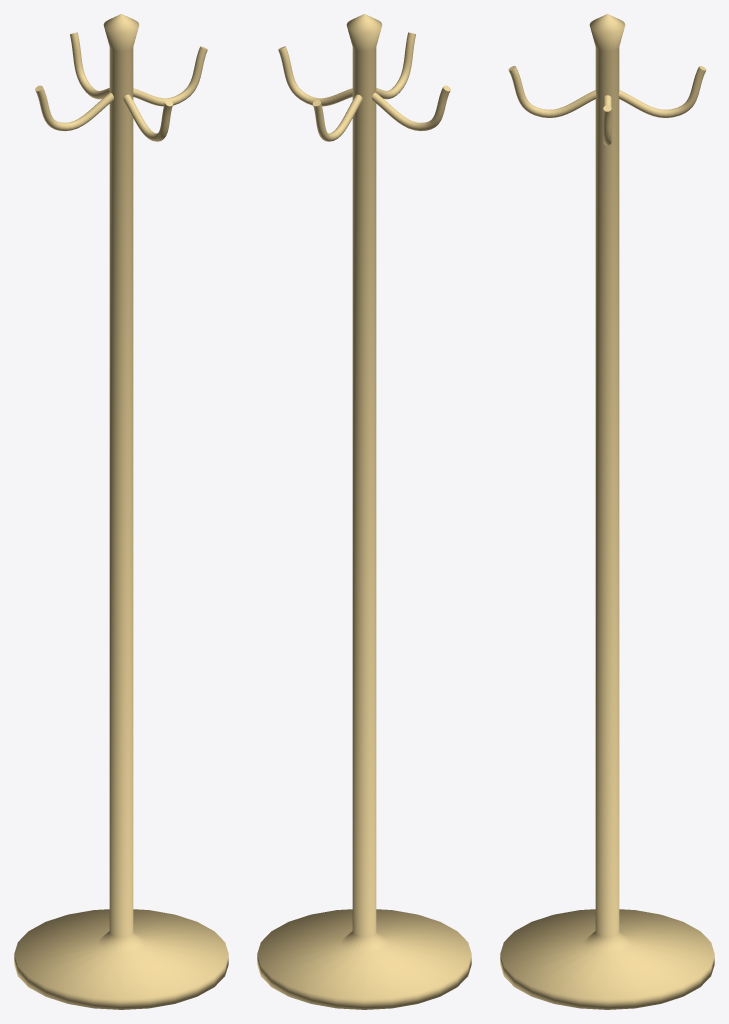
The model's file is coat_rack.glb.
3 renders of one model, left to right at view 1: azimuth 30°, elevation 25°; view 2: azimuth 150°, elevation 25°; view 3: azimuth 270°, elevation 25°, orthographic.
Parts seen in each view (by area): view 1: base, hook2, hook0, hook3, hook1; view 2: base, hook2, hook0, hook1, hook3; view 3: base, hook1, hook3.
Part boxes in pixels (bbox=[...]): base: bbox=[14, 14, 228, 1009]; hook2: bbox=[35, 85, 113, 131]; hook0: bbox=[133, 46, 207, 106]; hook3: bbox=[123, 94, 173, 141]; hook1: bbox=[70, 32, 109, 99]; base: bbox=[257, 14, 471, 1009]; hook2: bbox=[372, 85, 450, 131]; hook0: bbox=[278, 46, 352, 106]; hook1: bbox=[312, 94, 362, 141]; hook3: bbox=[376, 32, 415, 99]; base: bbox=[500, 14, 714, 1009]; hook1: bbox=[618, 66, 706, 117]; hook3: bbox=[508, 66, 596, 117].
Size of the model in its own units: 0.36 by 1.76 by 0.36.
